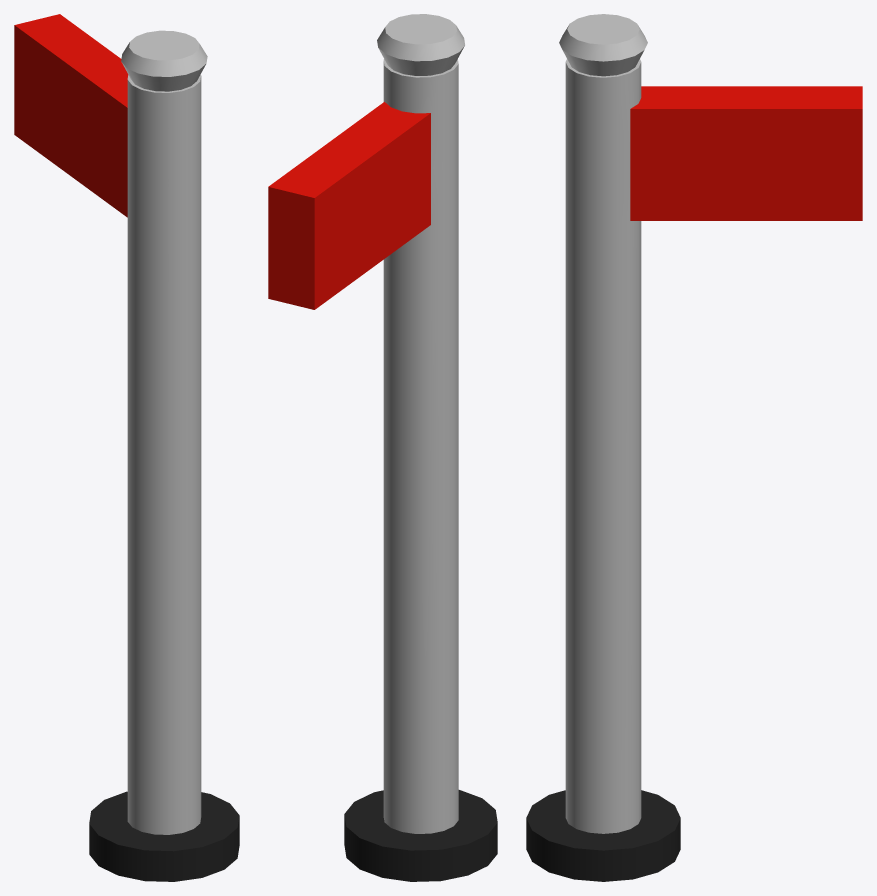
File: LowPolyFlag.fbx
3 renders of one model, left to right at view 1: azimuth 30°, elevation 25°; view 2: azimuth 150°, elevation 25°; view 3: azimuth 270°, elevation 25°, orthographic.
Parts seen in each view (by area): view 1: Flag; view 2: Flag; view 3: Flag.
Part boxes in pixels (bbox=[...]): Flag: bbox=[14, 14, 239, 881]; Flag: bbox=[268, 14, 497, 881]; Flag: bbox=[526, 14, 862, 881].
Bounding box in the file's own units: 50.8 × 297 × 111.
